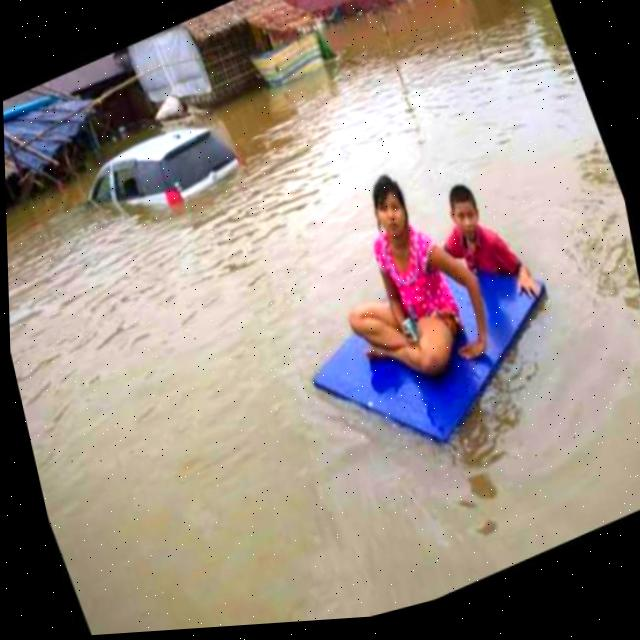civilian: (310, 138, 510, 413), (422, 155, 554, 332)
